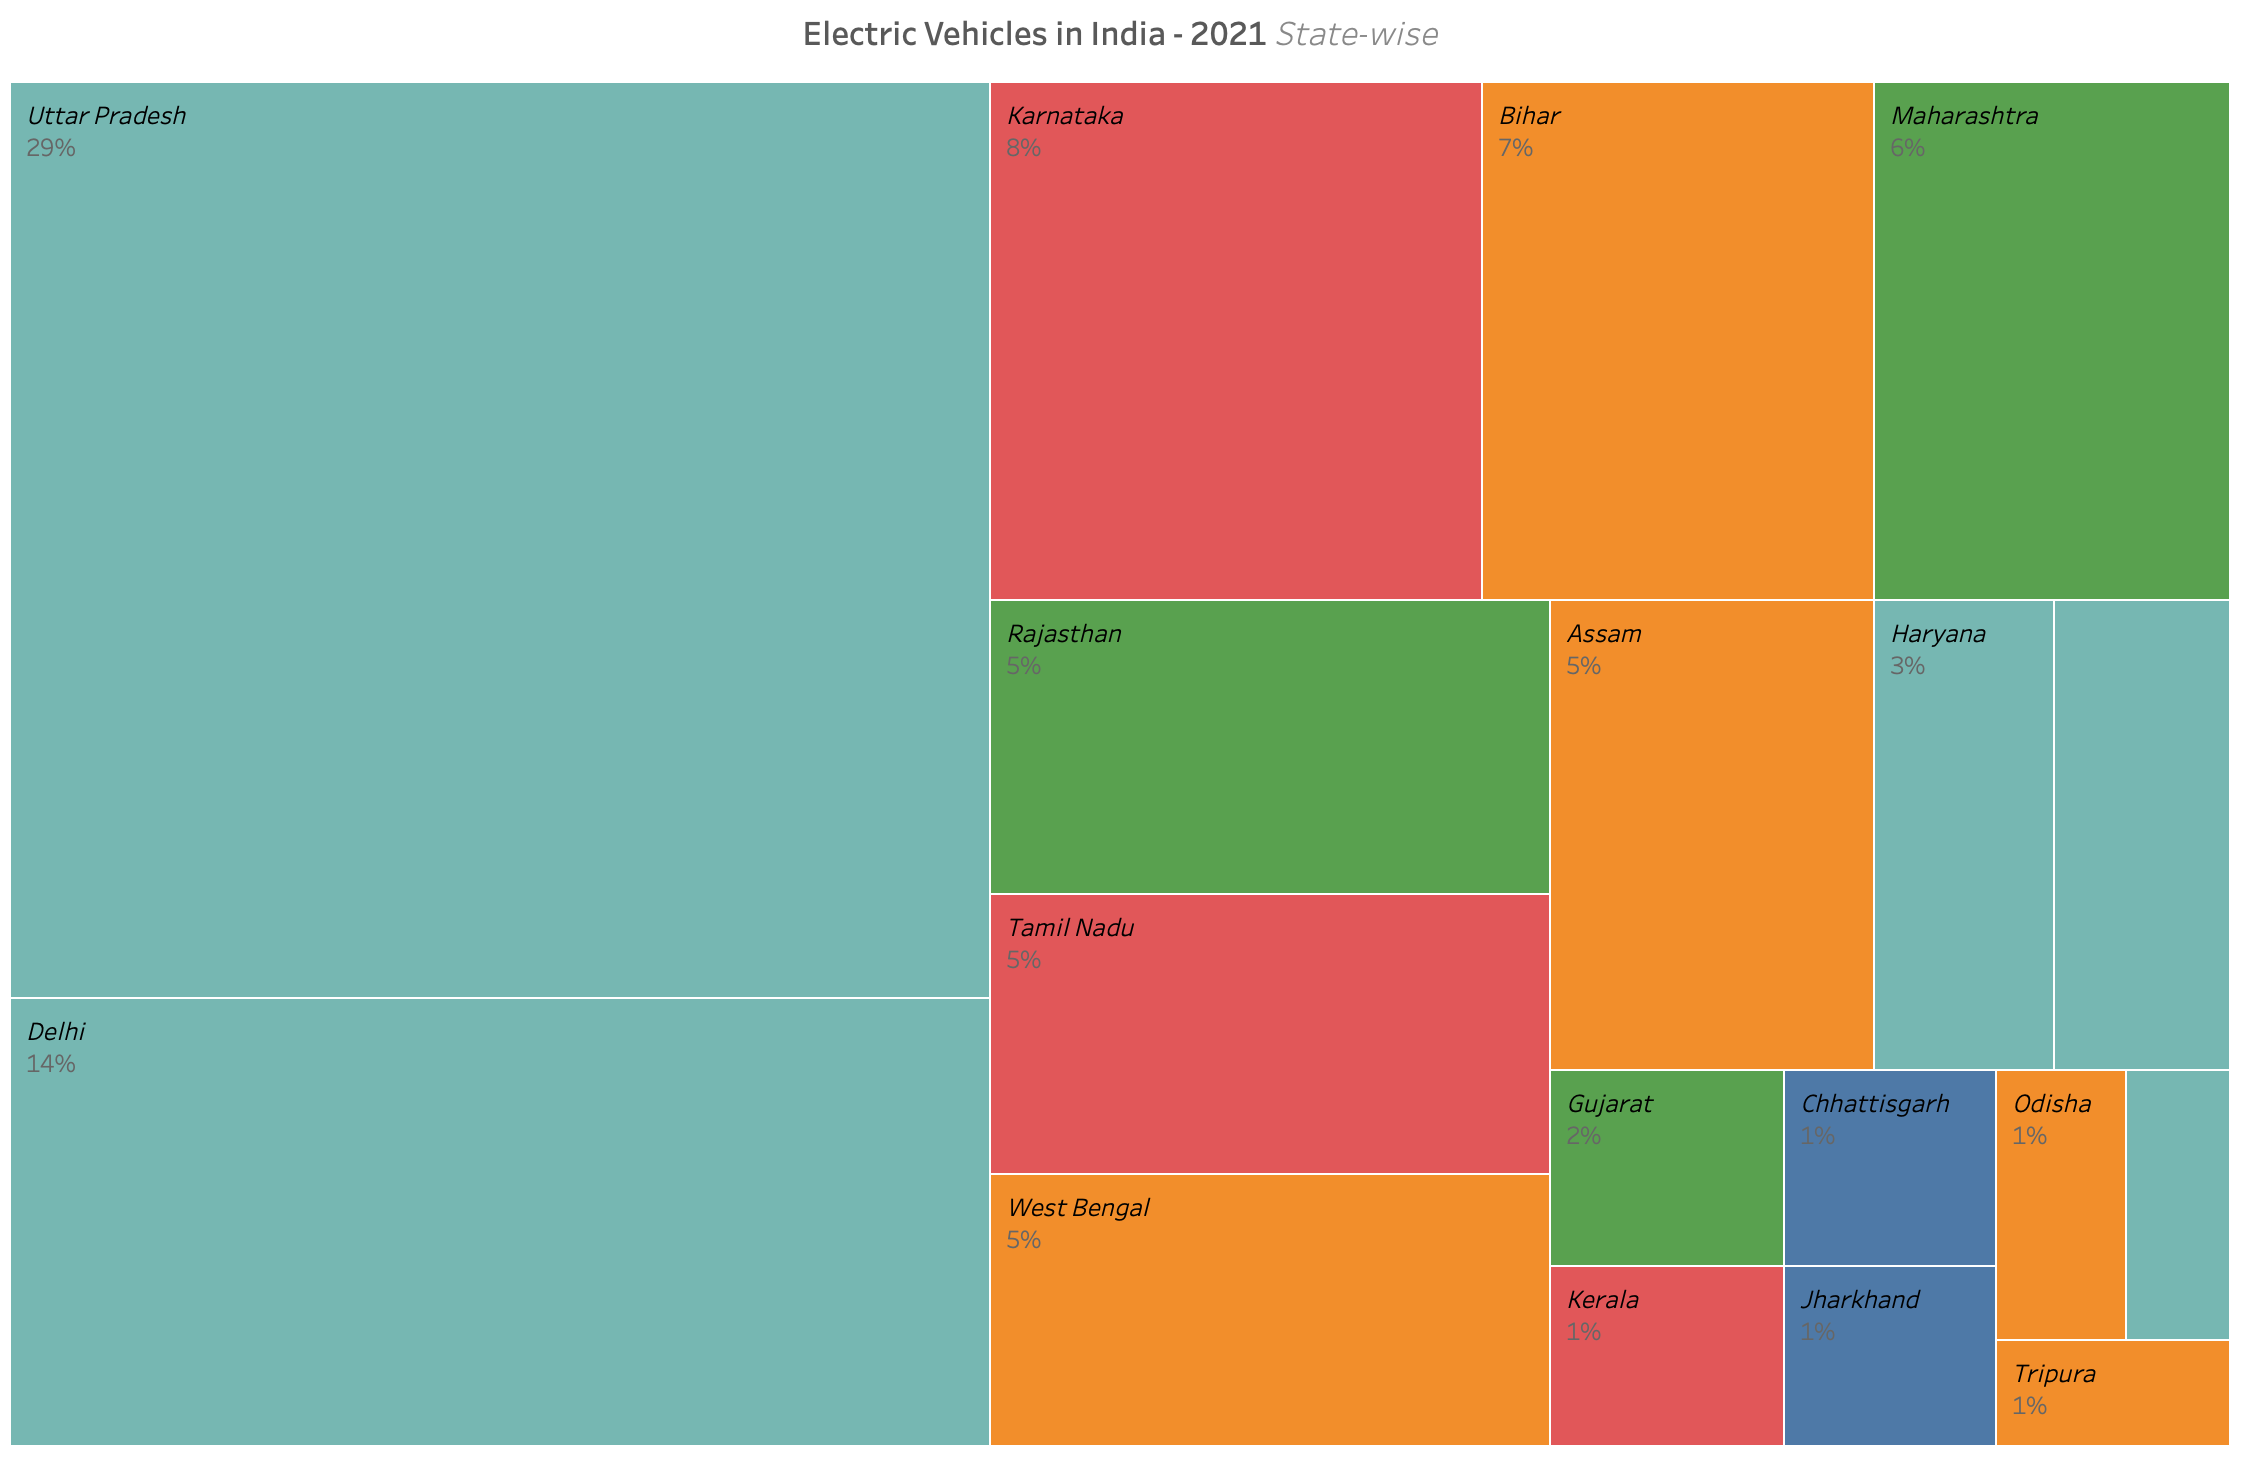

Layout of this report page (visuals, bound fields, positions):
{"tool":"tableau","page":{"name":"State-wise","canvas":[1000,1000],"units":"permille","ordinal":0},"visuals":[{"type":"title","box":[5.5,9.5,989.1,62.8]},{"type":"worksheet","title":"TM2","mark":"Automatic","box":[6.8,62.8,396.2,713.3]},{"type":"worksheet","title":"SB2","mark":"Pie","cols":["Calculation_6422555299345653766"],"box":[409.8,62.8,460.9,713.3]},{"type":"legend","title":"SB2","param":"[federated.1h4i9200o41wzu14zfeil0i64jp7].[none:State/UT:nk]","box":[889.7,68.7,111,465.6]}]}

Visuals, with their boxes on the dashboard's canvas, which has no fixed pixel size, in thousandths of its width and height (x1, y1, x2, y2). These are canvas units, not pixel positions in the 2252x1464 screenshot, which may show the page scaled, cropped or inside an application window:
title: [x1=6, y1=10, x2=995, y2=72]
"TM2" worksheet: [x1=7, y1=63, x2=403, y2=776]
"SB2" worksheet (Pie marks): [x1=410, y1=63, x2=871, y2=776]
"SB2" legend: [x1=890, y1=69, x2=1001, y2=534]
